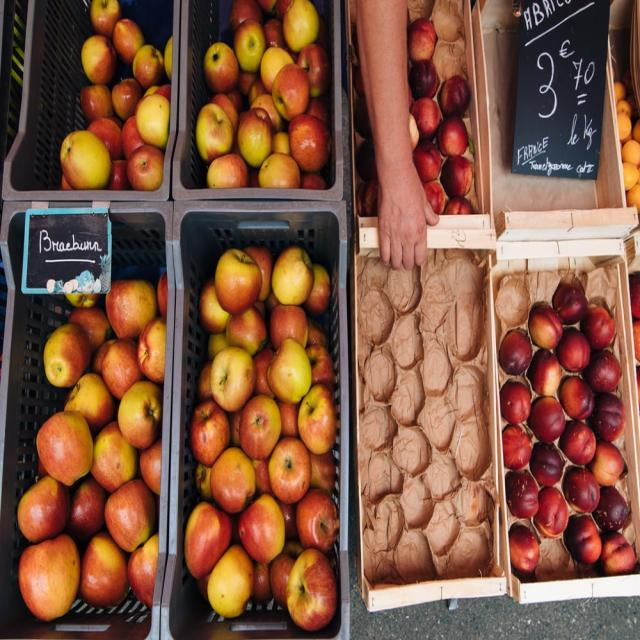basket: (161, 201, 349, 640), (0, 201, 176, 640), (172, 0, 344, 199)
